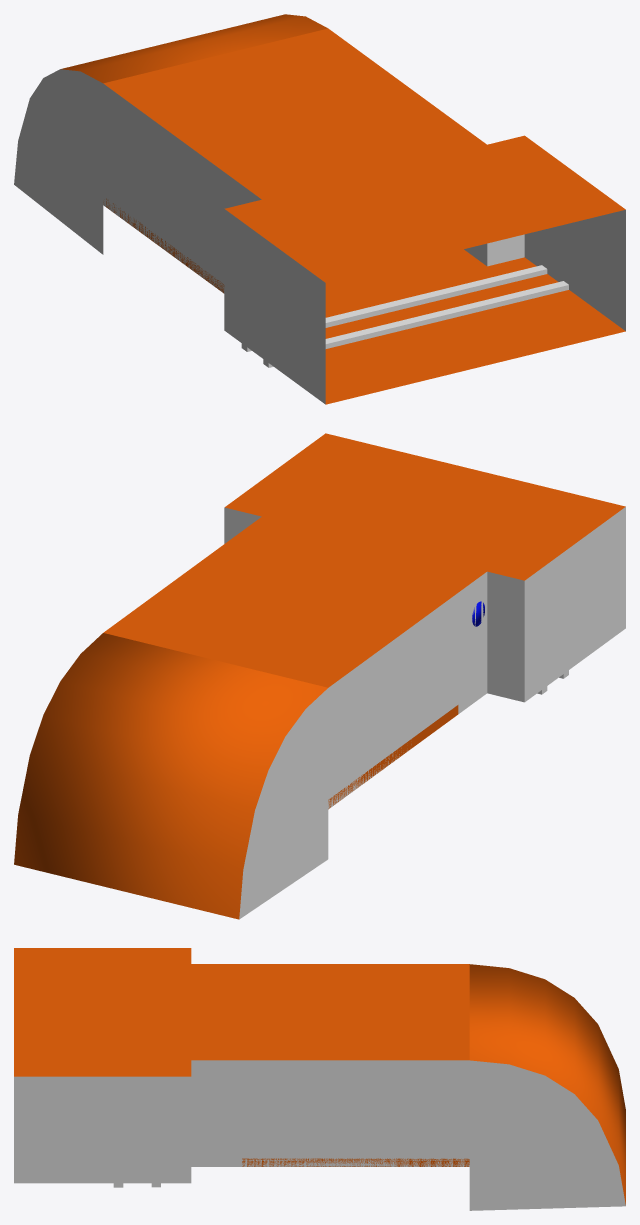
Rendered from room.glb.
The picture shows the model from 3 angles, top to bottom: view 1: azimuth 30°, elevation 25°; view 2: azimuth 150°, elevation 25°; view 3: azimuth 270°, elevation 25°; orthographic projection. The views are drawn at different scales.
Parts seen in each view (by area): view 1: Cube, Cube.002, Cube.001, Cube.003; view 2: Cube, Cube.003; view 3: Cube, Cube.003.
Boxes of the visible parts, x1,y1,x2,y2 form: Cube: [14, 14, 625, 404]; Cube.002: [263, 281, 568, 367]; Cube.001: [241, 265, 547, 351]; Cube.003: [103, 198, 224, 293]; Cube: [14, 433, 625, 919]; Cube.003: [328, 705, 458, 808]; Cube: [14, 948, 625, 1210]; Cube.003: [242, 1158, 469, 1166].
Size of the model in its own units: 8 by 4.37 by 16.11.
